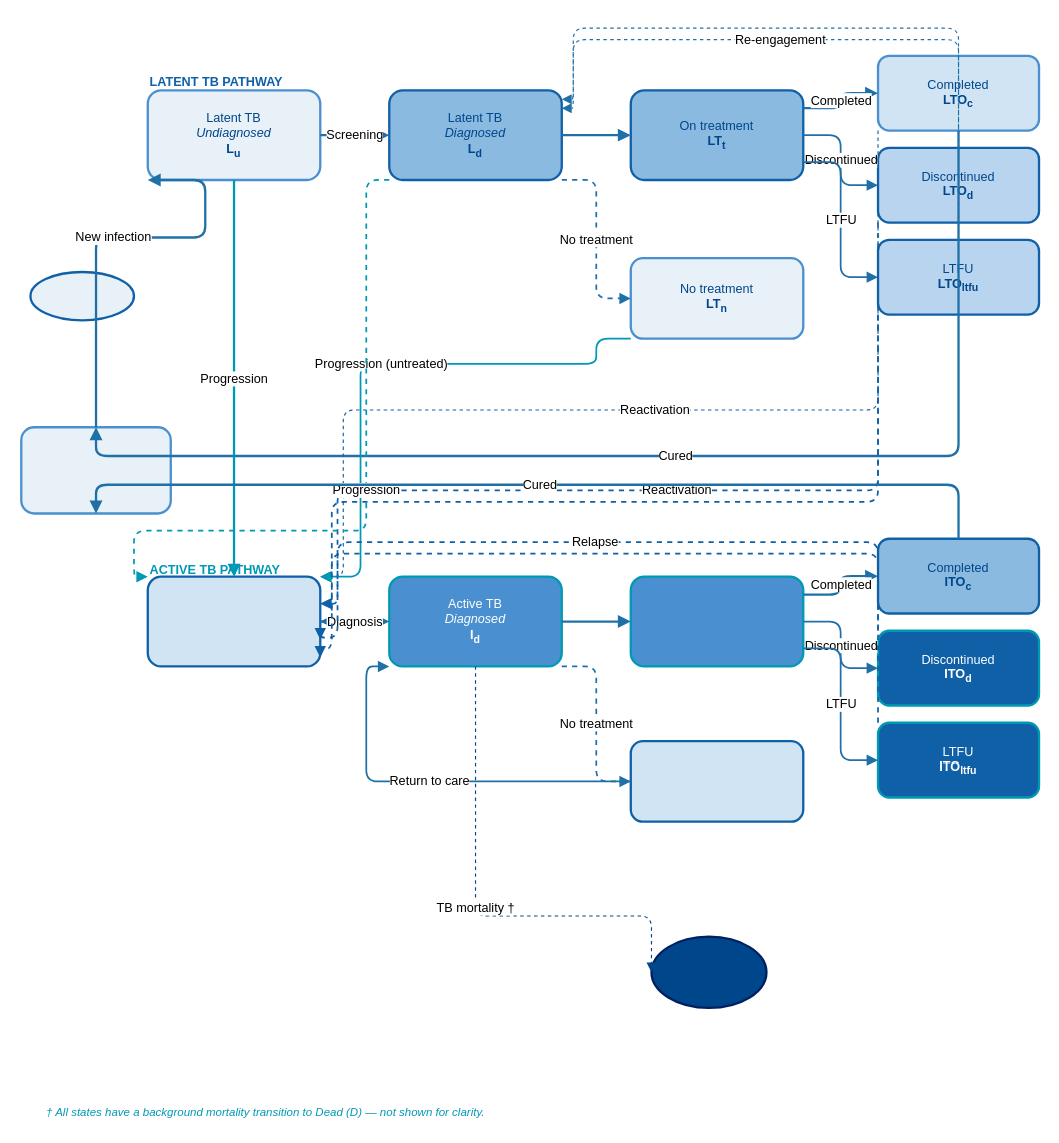
The diagram is 1059 pixels wide and 1143 high, and some of its shapes have lost their labels. Each missing label, with the box of its shape:
Active TB Undiagnosed I u: (146, 575, 321, 667)
Dead D: (650, 935, 767, 1009)
No treatment IT n: (629, 739, 804, 822)
On treatment IT t: (629, 575, 804, 667)
START: (29, 270, 135, 321)
Uninfected U: (20, 425, 171, 514)
